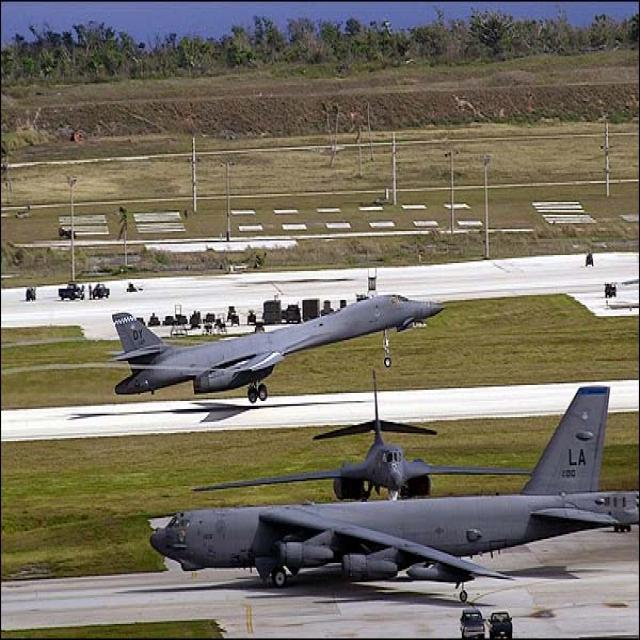MIL_Plane: (150, 395, 638, 593), (97, 294, 440, 404), (191, 401, 532, 470)
